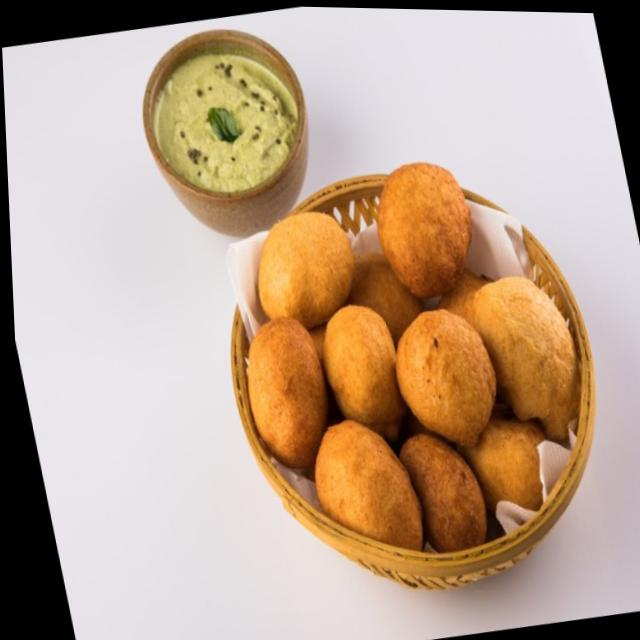BONDA: (245, 160, 577, 549)
WHITE CHUTNEY: (156, 53, 292, 187)
